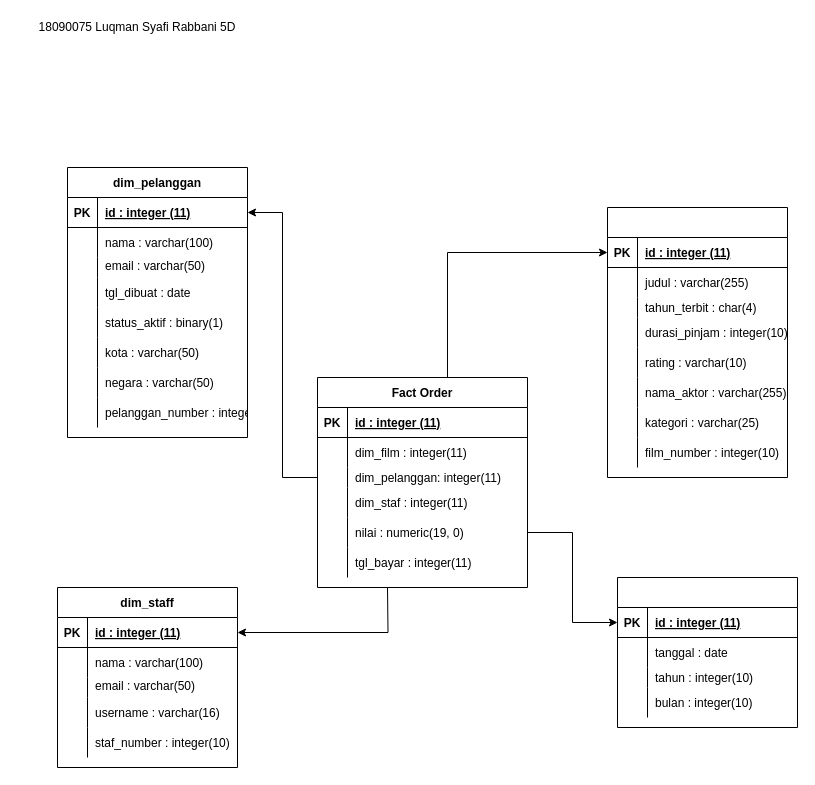
The diagram is 815 pixels wide and 785 high, and some of its shapes have lost their labels. The shapes that lost their labels are listed below. From the top down, each one's box as (x1, y1, x2, y2) in pixels, then its label:
(606, 206, 788, 478): dim_film
(616, 576, 798, 728): dim_tanggal
